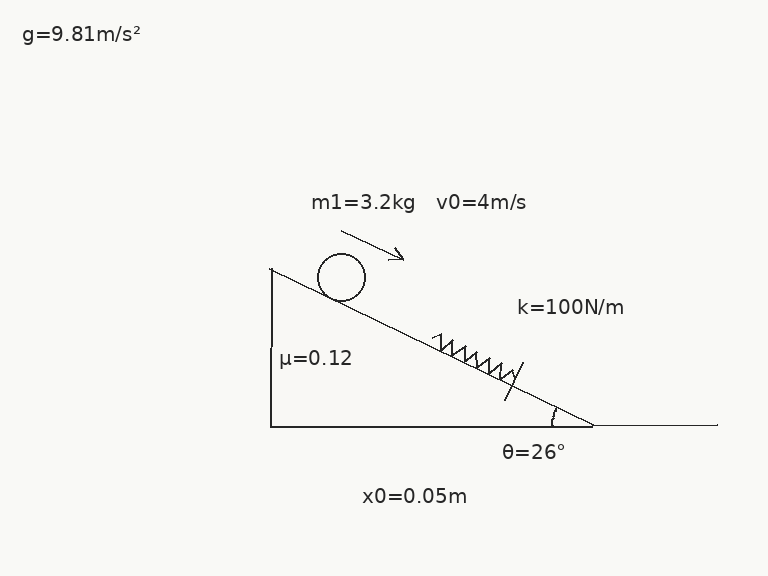ball: (315, 251, 367, 303)
ramp: (268, 267, 594, 428)
spring: (430, 333, 518, 381)
